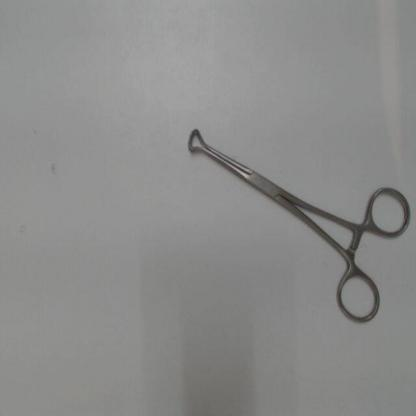Babcock Tissue Forceps: (184, 123, 415, 329)
